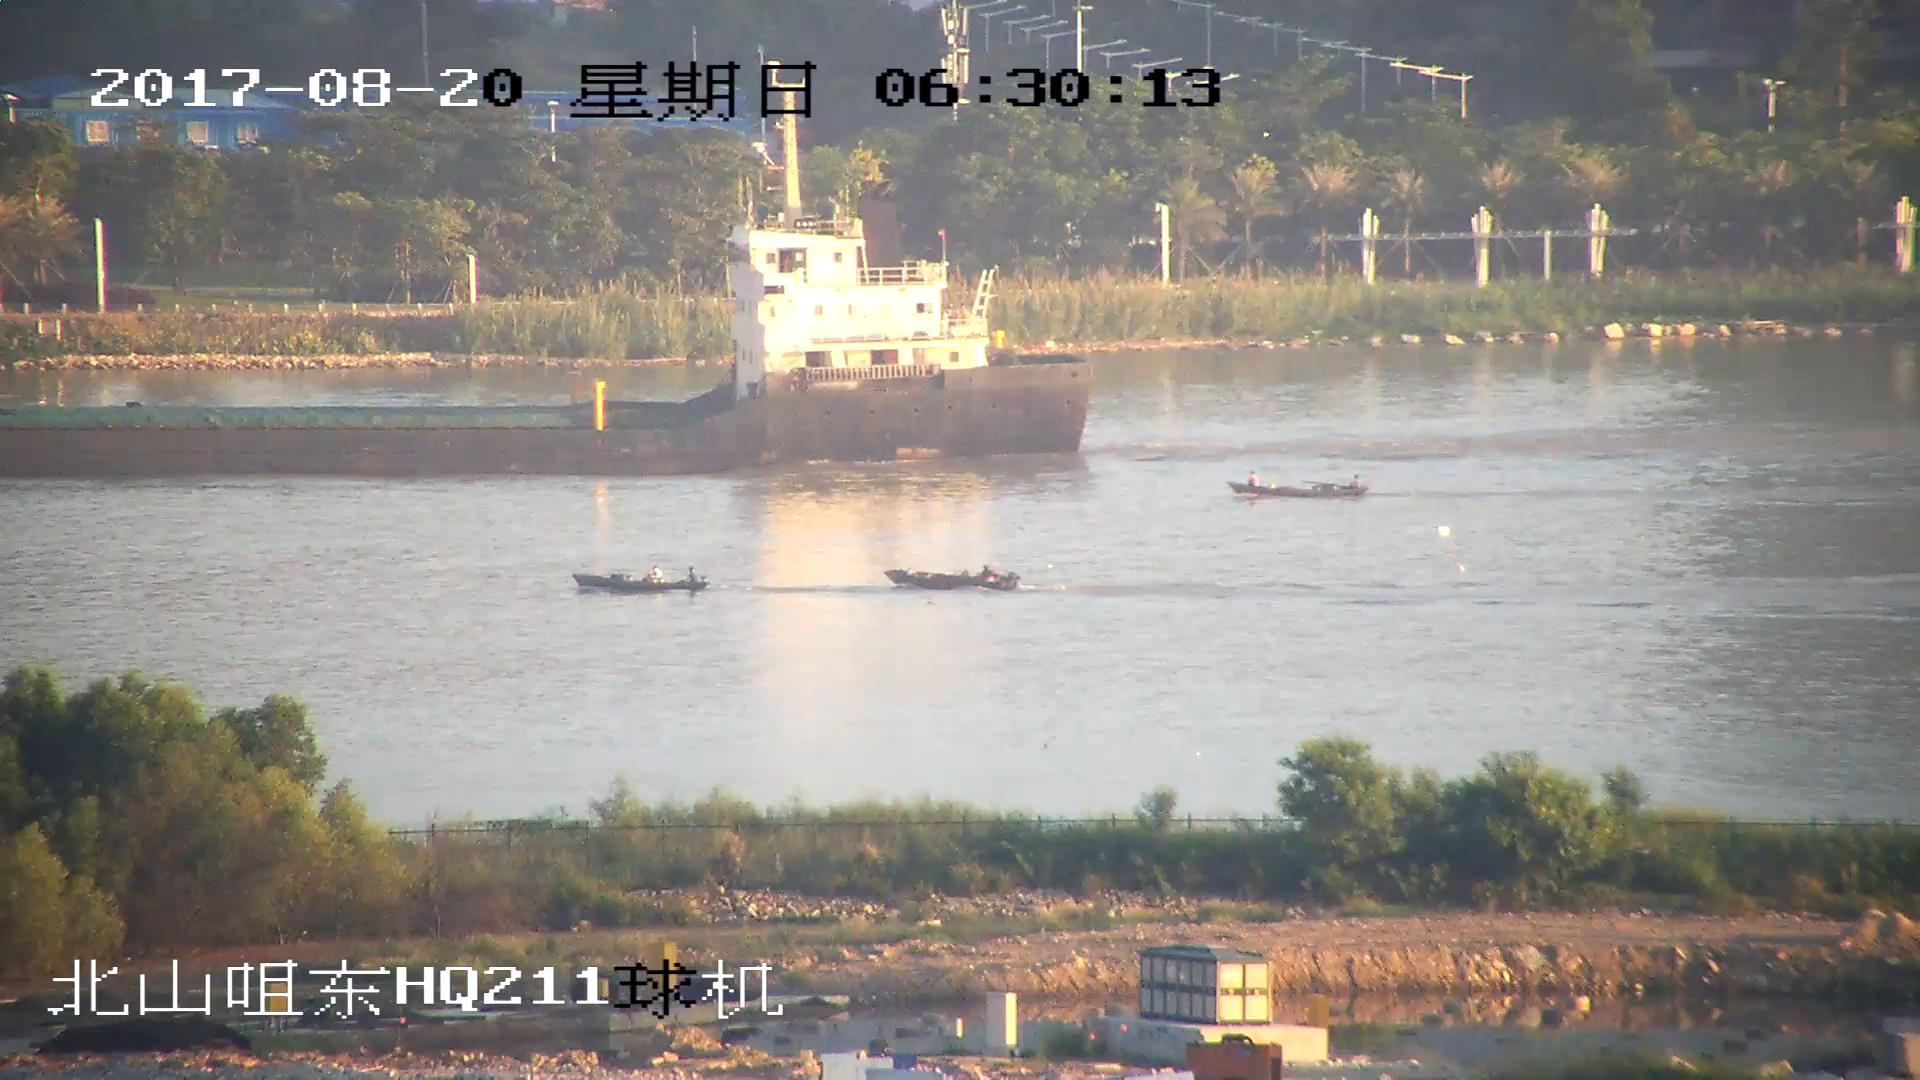Ship: (3, 117, 1095, 471), (891, 559, 1026, 597), (1232, 471, 1362, 505), (576, 568, 708, 595)
